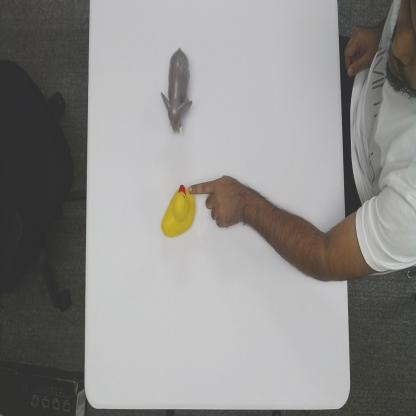Arm: (245, 185, 346, 287)
Duck: (160, 184, 196, 238)
Elephant: (161, 46, 193, 135)
Hand: (190, 172, 243, 234)
